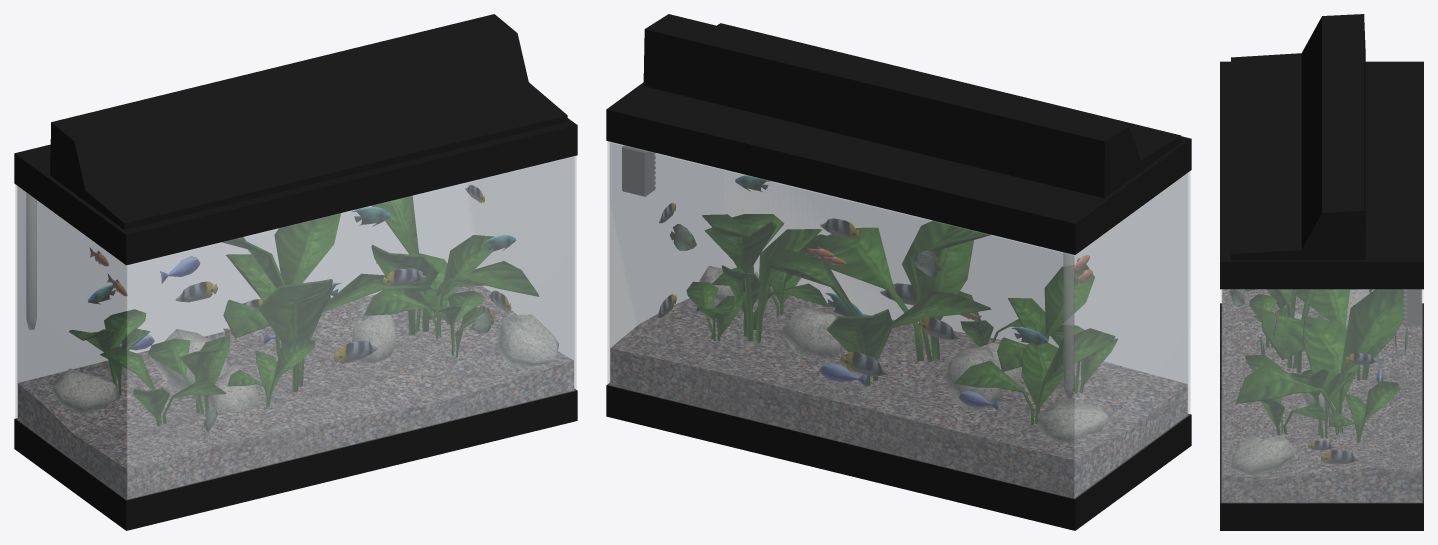
The model's file is aquarium.glb.
3 renders of one model, left to right at view 1: azimuth 30°, elevation 25°; view 2: azimuth 150°, elevation 25°; view 3: azimuth 270°, elevation 25°, orthographic. The views are drawn at different scales.
Visible parts, largest first — view 1: Node49, Node16, Node47, Node46, Node48, Node6, Node5, Node7, Node44, Node39, Node36, Node40 (+9 smaller); view 2: Node49, Node16, Node47, Node46, Node48, Node6, Node5, Node7, Node38, Node39, Node35, Node45 (+9 smaller); view 3: Node47, Node49, Node16, Node46, Node7, Node48, Node6, Node36, Node5, Node42, Node43, Node44 (+6 smaller).
Boxes of the visible parts, x1,y1,x2,y2 form: Node49: (15,156,576,499); Node16: (17,156,574,498); Node47: (14,14,577,265); Node46: (18,286,573,498); Node48: (14,388,577,530); Node6: (222,237,431,391); Node5: (223,213,340,356); Node7: (371,196,538,335); Node44: (364,235,493,339); Node39: (148,335,229,413); Node36: (497,314,558,365); Node40: (100,347,226,425); Node49: (607,141,1190,498); Node16: (610,142,1187,497); Node47: (606,14,1191,254); Node46: (610,286,1187,497); Node48: (606,383,1191,530); Node6: (803,220,990,361); Node5: (764,249,990,385); Node7: (705,214,821,342); Node38: (954,328,1114,425); Node39: (997,264,1094,371); Node35: (1037,400,1108,443); Node45: (781,306,842,356); Node47: (1220,14,1423,289); Node49: (1221,289,1422,502); Node16: (1222,289,1421,502); Node46: (1222,289,1421,502); Node7: (1235,289,1402,434); Node48: (1220,303,1423,530); Node6: (1260,289,1319,373); Node36: (1230,435,1297,474); Node5: (1296,289,1402,380); Node42: (1329,381,1399,443); Node43: (1245,355,1324,435); Node44: (1289,368,1355,438).
Bounding box in the file's own units: 70.21 × 52.01 × 30.18.
